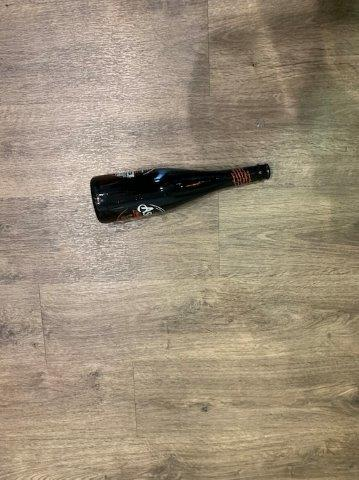botolkaca: (92, 163, 273, 222)
